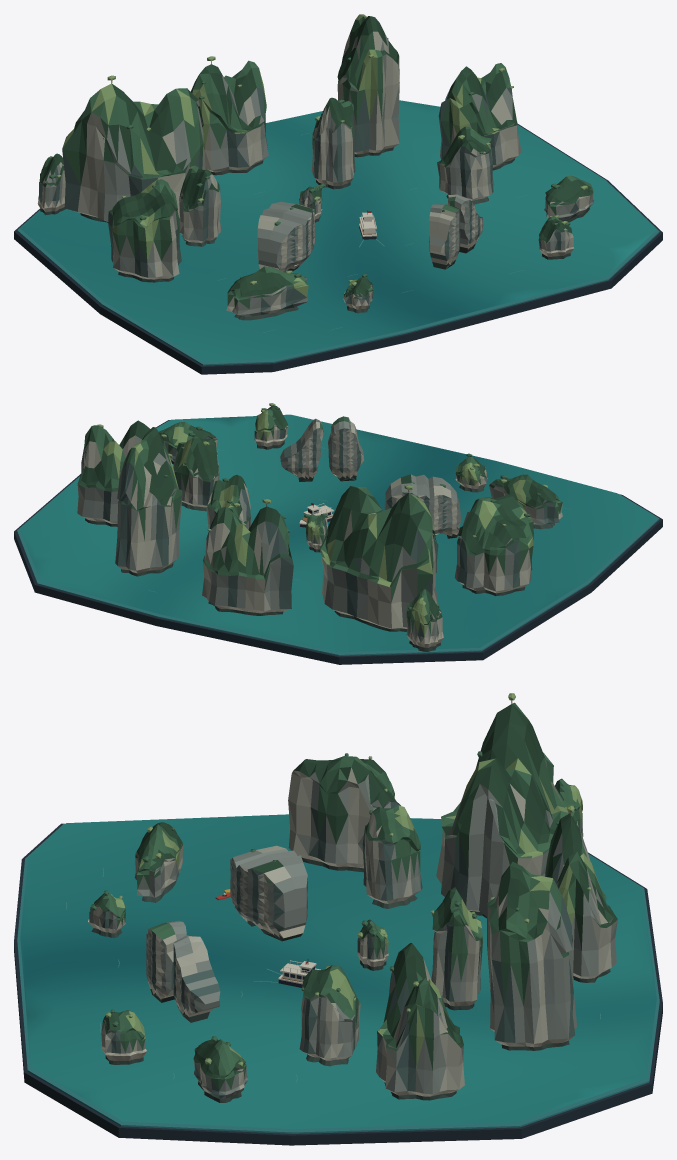
File: mysterios2.glb
3 renders of one model, top to bottom at view 1: azimuth 30°, elevation 25°; view 2: azimuth 150°, elevation 25°; view 3: azimuth 270°, elevation 25°, orthographic. The views are drawn at different scales.
Parts seen in each view (by area): view 1: WATER, KARST_ARCHIPELAGO, BASE, HON_DINH_HUONG, HON_TRONG_MAI_UPRIGHT, HON_TRONG_MAI_SLOPING, VEGETATION; view 2: KARST_ARCHIPELAGO, WATER, BASE, HON_DINH_HUONG, HON_TRONG_MAI_UPRIGHT, HON_TRONG_MAI_SLOPING, VEGETATION; view 3: WATER, KARST_ARCHIPELAGO, BASE, HON_DINH_HUONG, HON_TRONG_MAI_SLOPING, HON_TRONG_MAI_UPRIGHT, VEGETATION, TOUR_BOAT_AND_KAYAKS.
Part boxes in pixels (box(x1,y1,x2,y2)): WATER: box(20, 100, 656, 361); KARST_ARCHIPELAGO: box(37, 14, 594, 320); BASE: box(14, 123, 662, 374); HON_DINH_HUONG: box(257, 201, 314, 272); HON_TRONG_MAI_UPRIGHT: box(429, 204, 460, 269); HON_TRONG_MAI_SLOPING: box(448, 194, 483, 253); VEGETATION: box(49, 38, 587, 291); KARST_ARCHIPELAGO: box(77, 405, 562, 651); WATER: box(20, 414, 655, 652); BASE: box(14, 420, 662, 664); HON_DINH_HUONG: box(384, 474, 461, 538); HON_TRONG_MAI_UPRIGHT: box(328, 416, 364, 481); HON_TRONG_MAI_SLOPING: box(280, 418, 323, 481); VEGETATION: box(85, 403, 547, 610); WATER: box(20, 814, 656, 1128); KARST_ARCHIPELAGO: box(88, 702, 617, 1102); BASE: box(14, 823, 662, 1145); HON_DINH_HUONG: box(230, 845, 307, 941); HON_TRONG_MAI_SLOPING: box(173, 935, 220, 1022); HON_TRONG_MAI_UPRIGHT: box(146, 920, 186, 1002); VEGETATION: box(90, 693, 591, 1066); TOUR_BOAT_AND_KAYAKS: box(215, 889, 320, 987).
Bounding box in the file's own units: 29 × 8.16 × 24.8.
